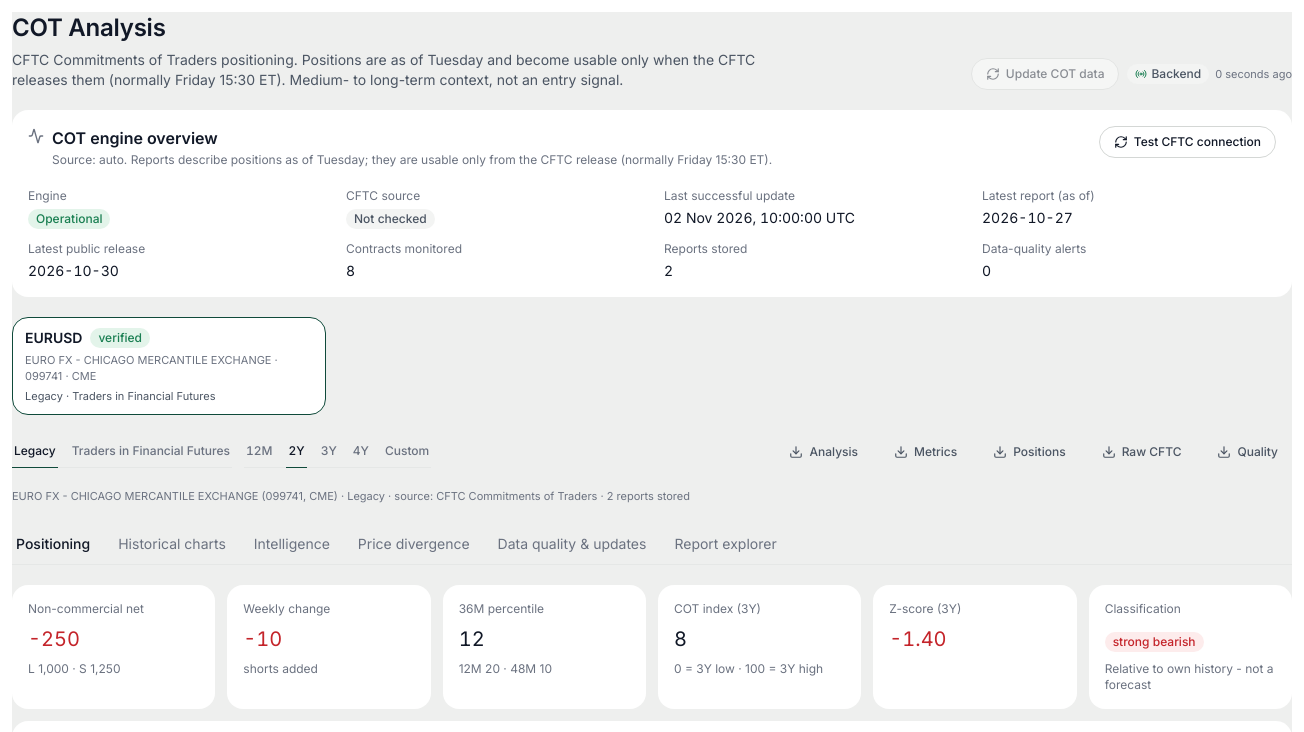
COT dashboard (live backend) › navigates to divergence, quality and the report explorer
This screenshot has width=1304, height=732.
Check: the text "Non-commercial net" is shown, box [28,601,144,617]
What coordinates should you click on to do the following:
click the tab "Price divergence"
I would click on:
 (414, 544)
Its box is [354,524,474,565].
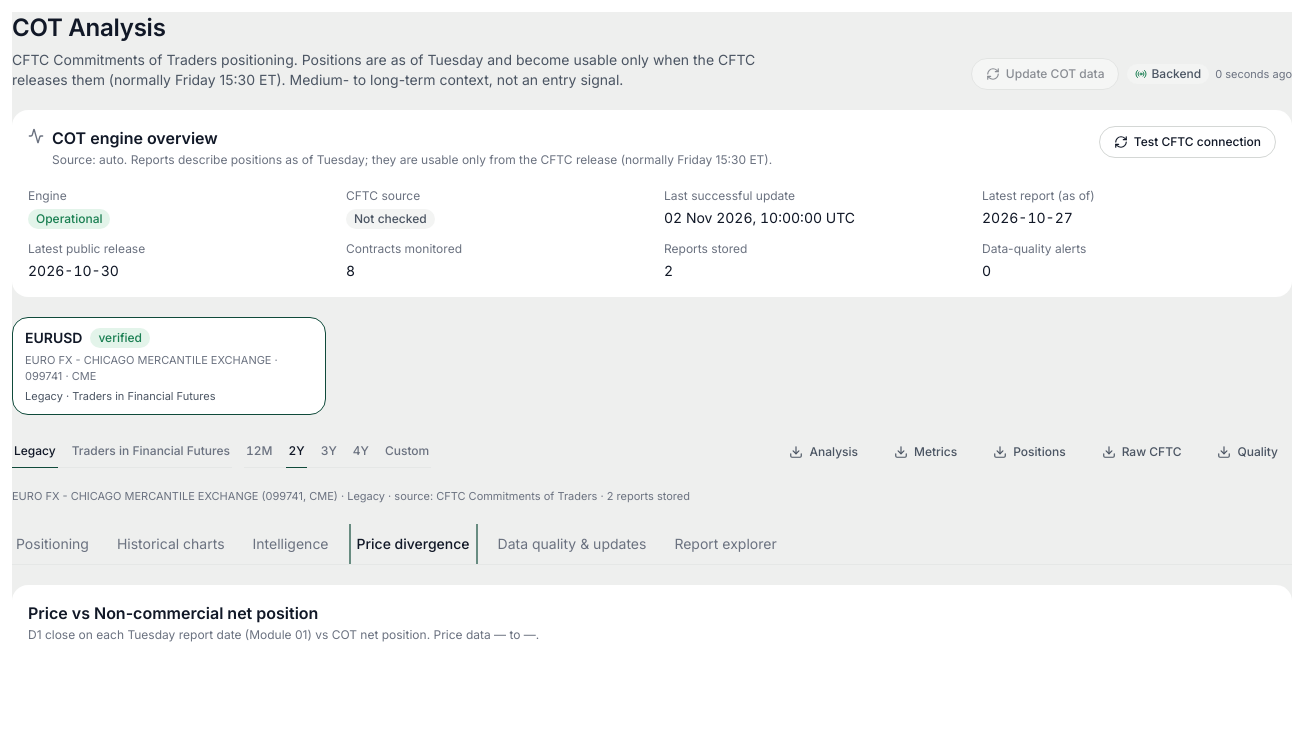
What coordinates should you click on to do the following:
click the tab "Data quality & updates"
I would click on:
 (572, 544)
Its box is [494,524,650,565].
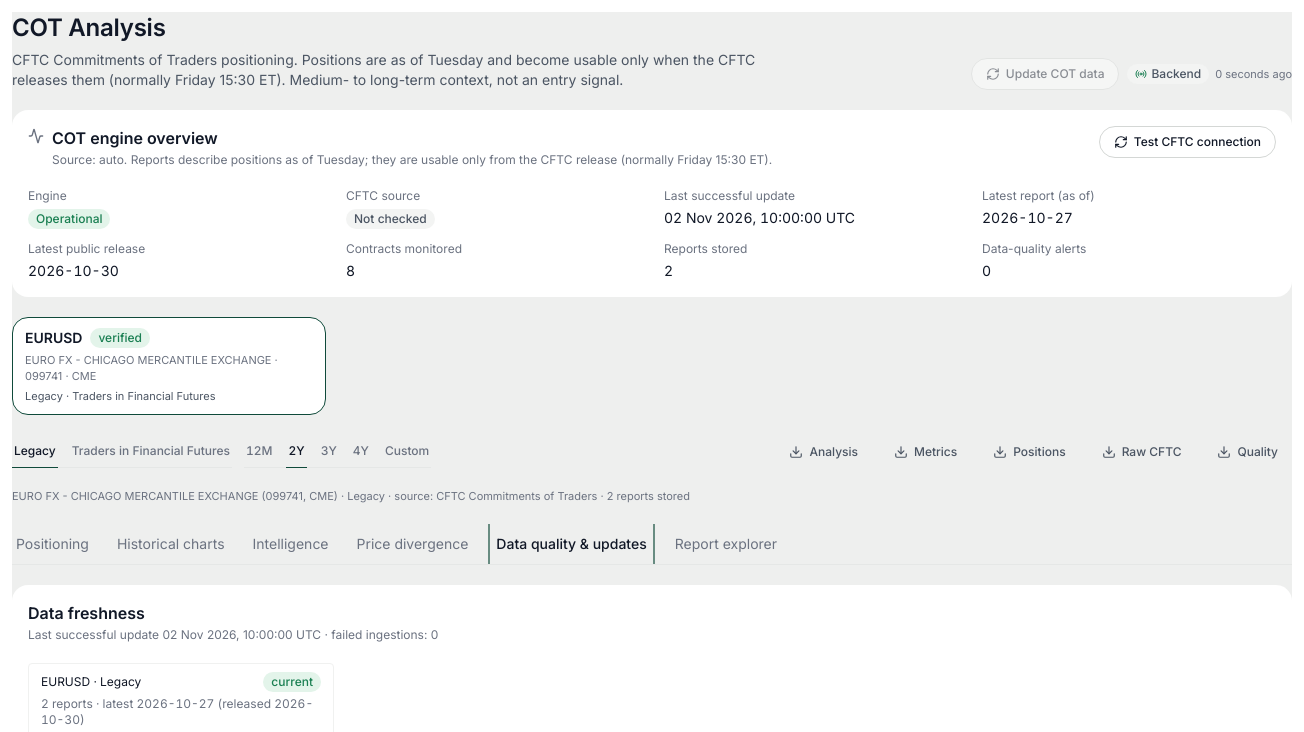
What coordinates should you click on to do the following:
click the tab "Report explorer"
I would click on:
 (726, 544)
Its box is [671,524,781,565].
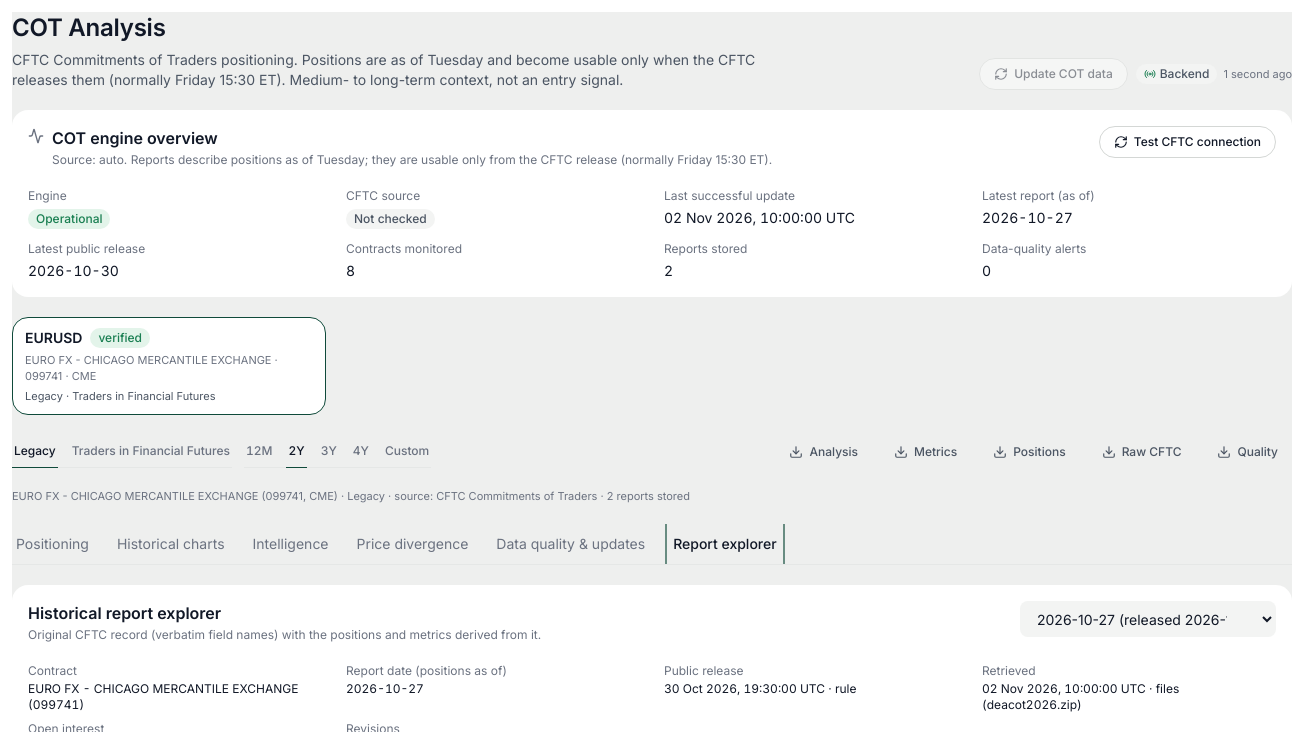
Check: the text "deacot2026.zip" is shown, box [982,681,1179,712]
